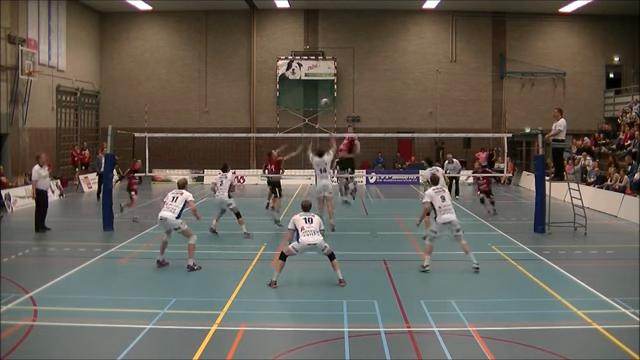alzata: (261, 137, 300, 228)
attacco: (331, 122, 363, 207)
muro: (305, 131, 342, 232)
